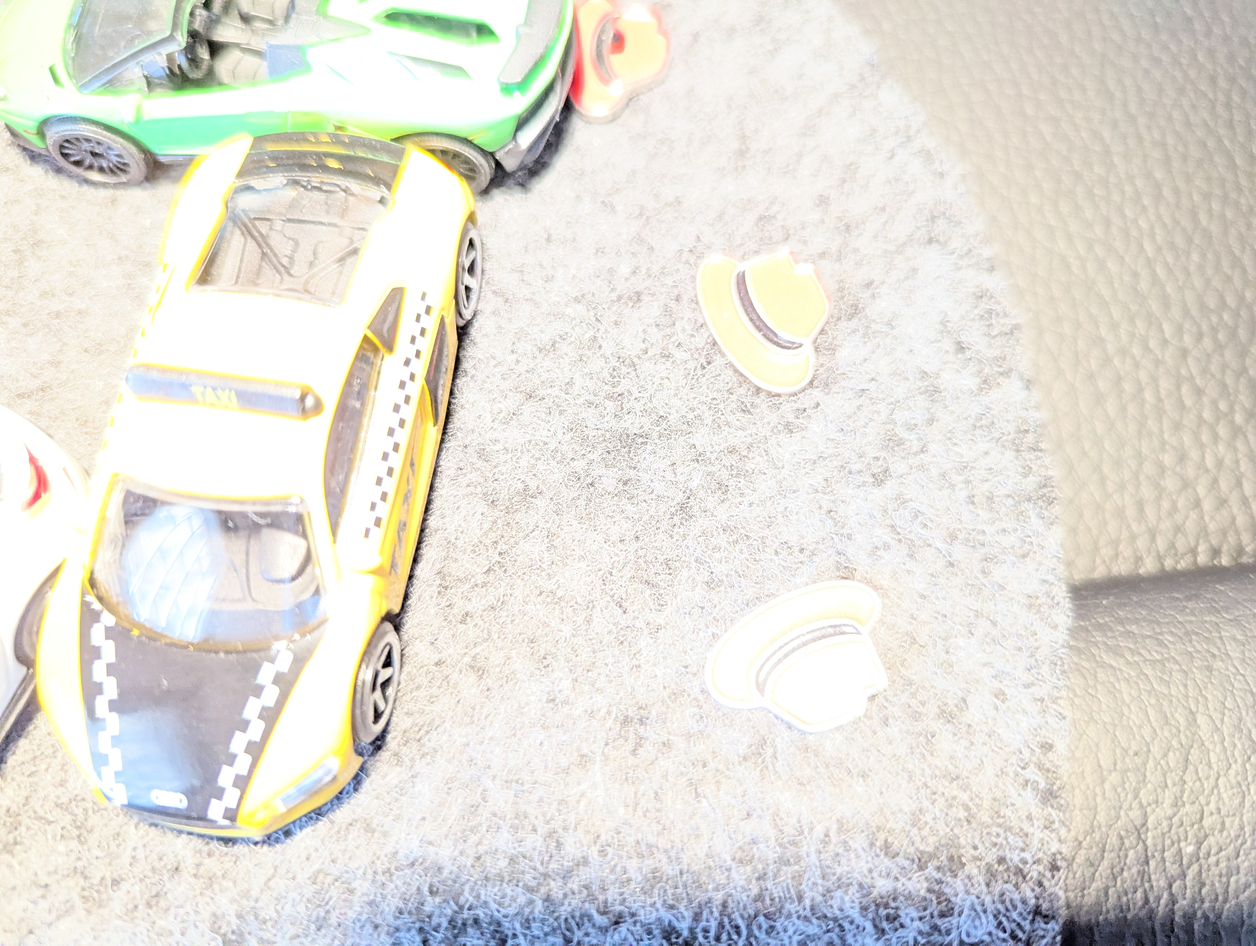Car: (10, 111, 501, 879), (0, 0, 590, 197)
Red-Hat: (681, 565, 909, 777), (676, 227, 843, 415), (538, 0, 679, 137)
Scratch: (599, 18, 638, 60)
